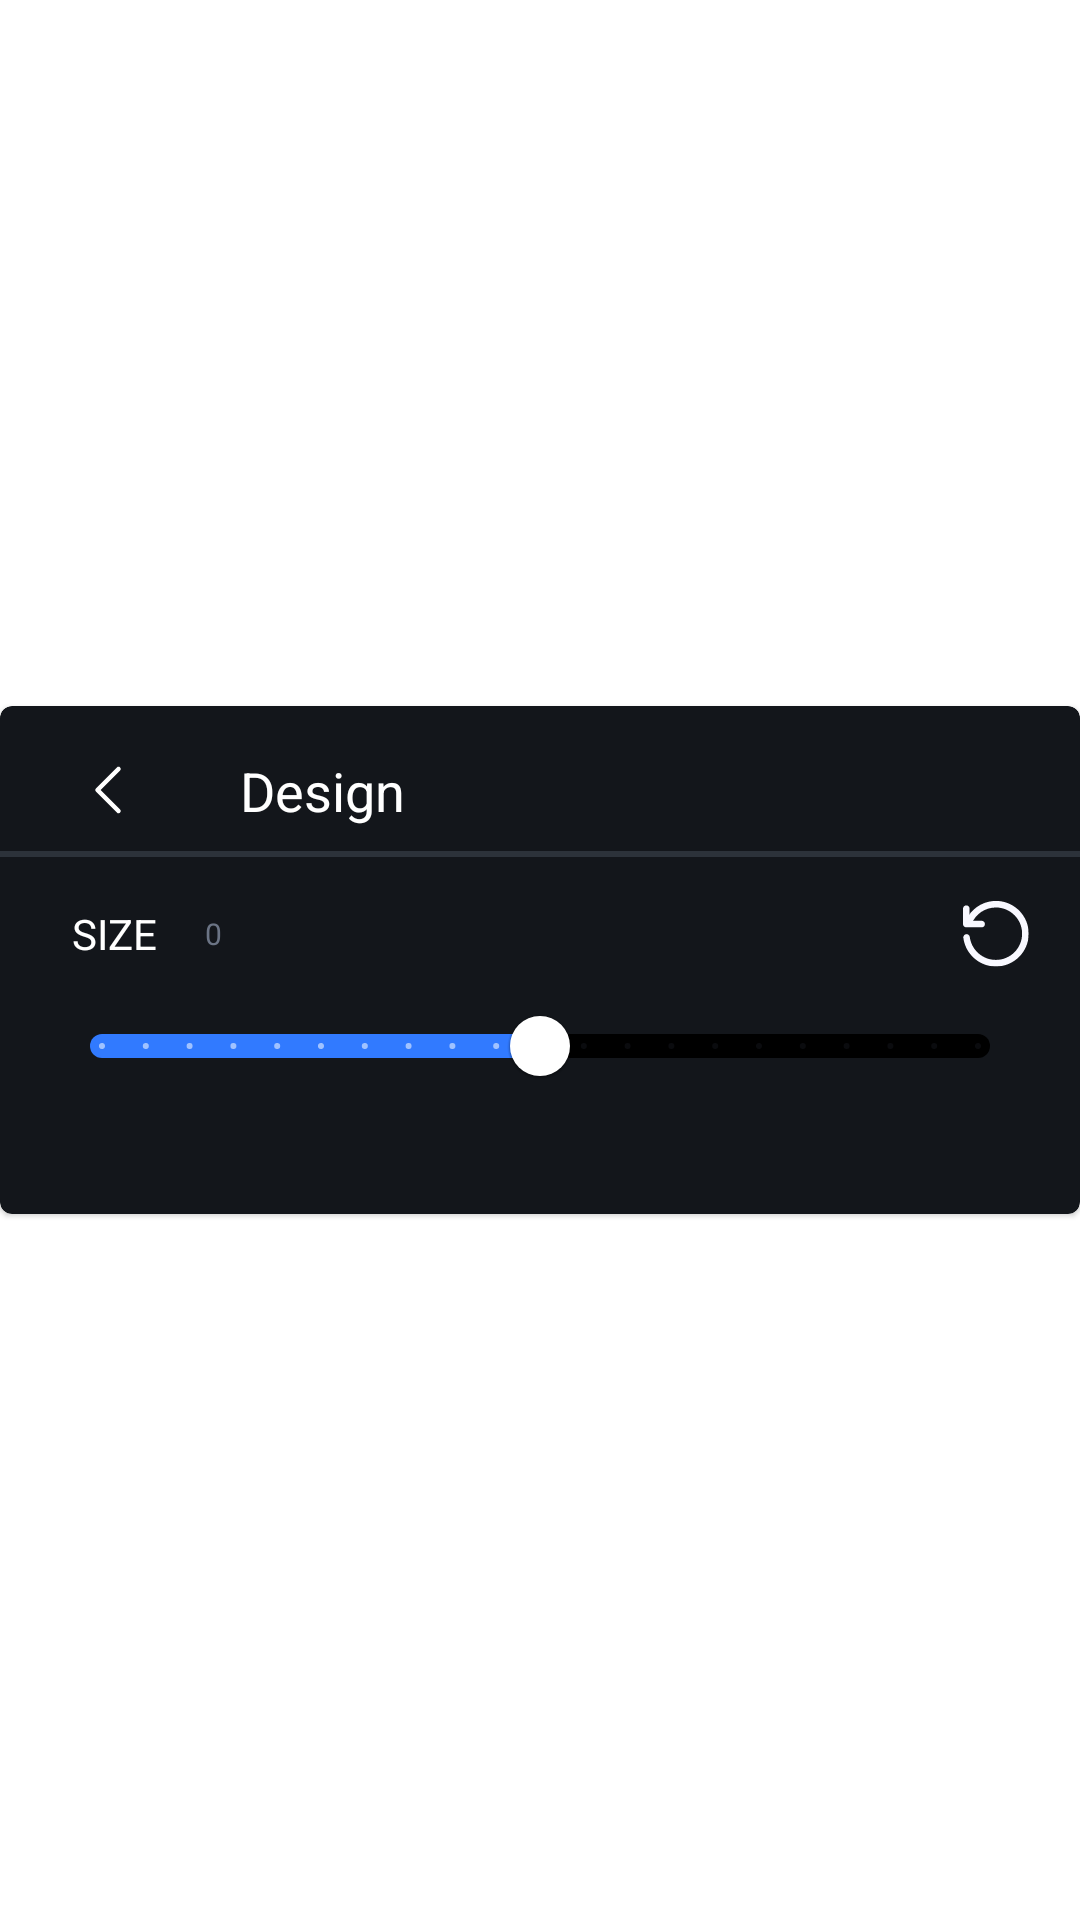

Icons on this 1080 × 1920 Android screen, each with the point to tap as [x,y]:
arrow left: [108,790]
reset: [996,934]
